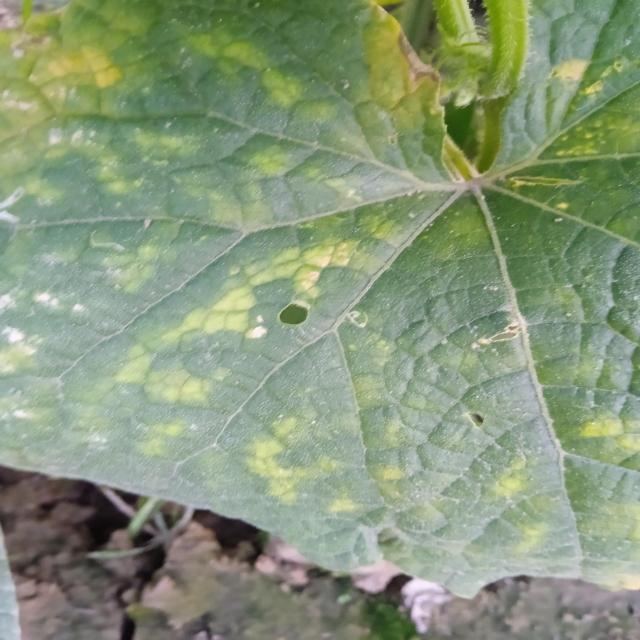cucumber_downy: (0, 8, 640, 532)
